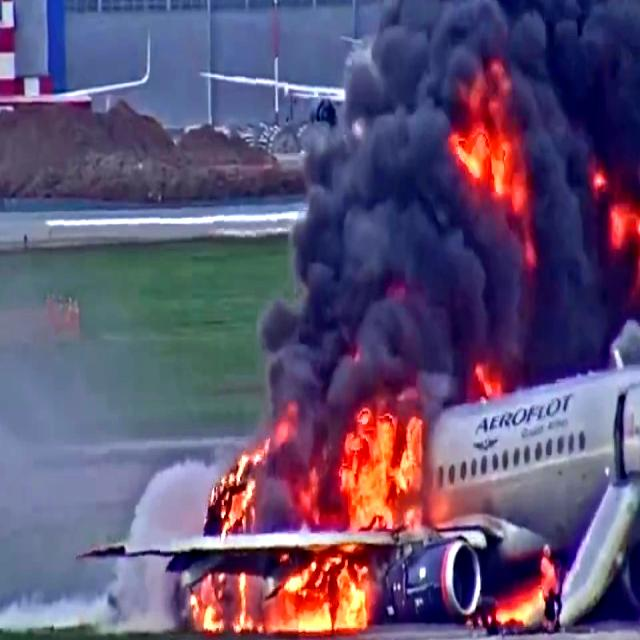fire: (344, 418, 419, 538), (279, 548, 367, 628), (460, 104, 514, 200)
